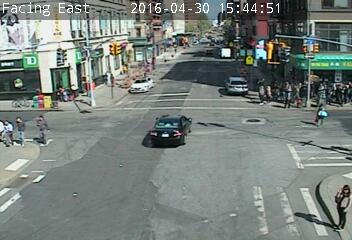neg: (104, 64, 139, 110), (193, 169, 220, 205), (230, 110, 256, 145), (134, 190, 159, 224), (166, 113, 190, 145), (86, 167, 110, 199), (297, 134, 320, 165), (215, 53, 238, 83), (289, 26, 312, 56), (178, 37, 200, 66), (41, 170, 63, 199), (95, 25, 115, 52), (55, 44, 73, 68), (22, 48, 38, 69)
pos: (310, 180, 350, 233), (33, 111, 59, 146), (10, 113, 32, 143), (278, 81, 297, 107), (251, 79, 267, 100), (316, 102, 330, 122)
